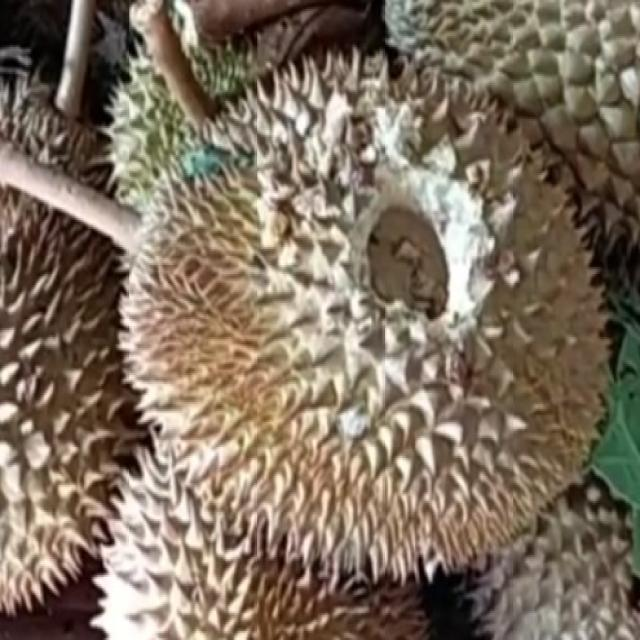defective: (110, 42, 614, 584)
